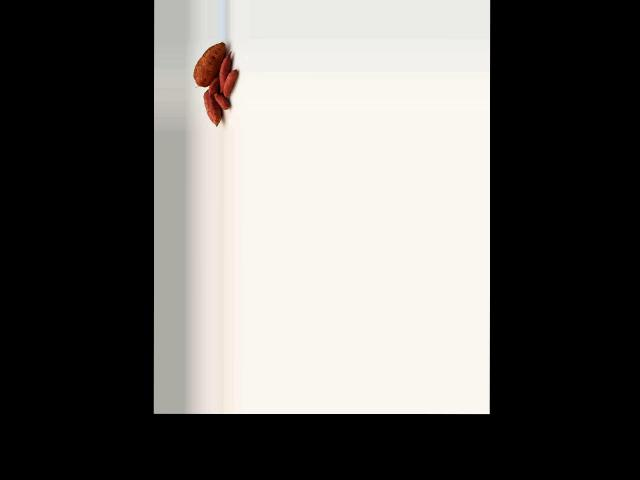sweet_potato: (203, 90, 221, 127)
